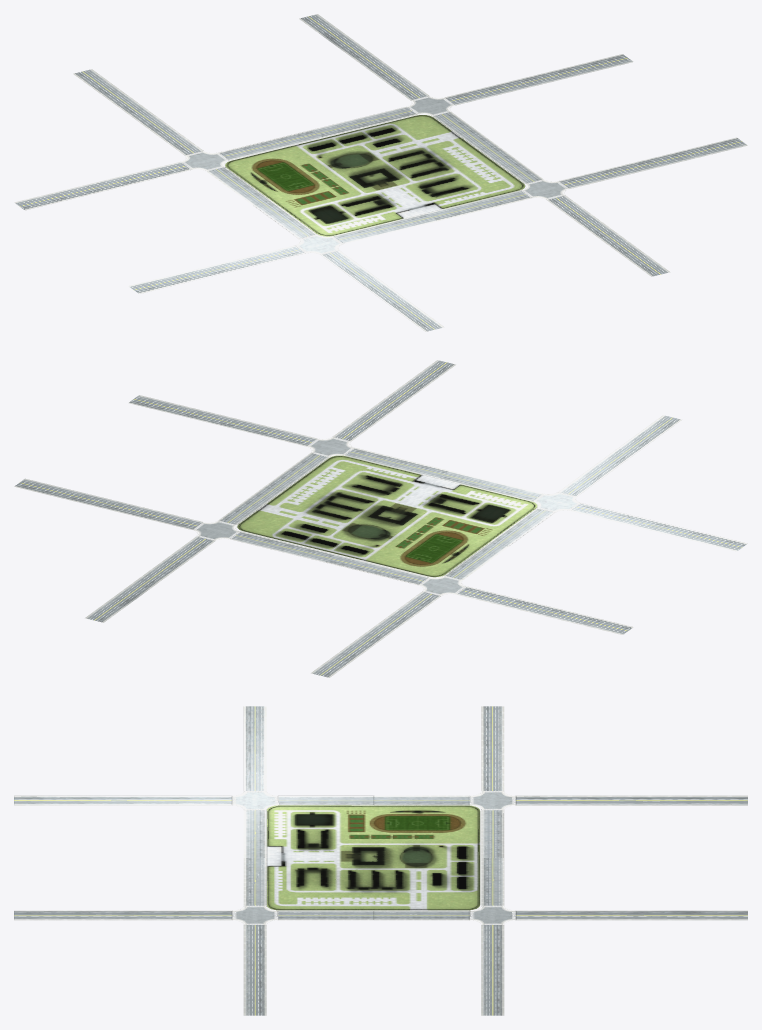
File: groundwithTexture.glb
3 views of the same model, one above another, from view 1: azimuth 30°, elevation 25°; view 2: azimuth 150°, elevation 25°; view 3: azimuth 270°, elevation 25° (orthographic). The views are drawn at different scales.
Visible parts, largest first — view 1: 地面; view 2: 地面; view 3: 地面.
Part boxes in pixels (<box>): 地面: <box>14,14,747,331</box>; 地面: <box>14,360,747,677</box>; 地面: <box>14,706,747,1015</box>.
Size of the model in its own units: 1052 by 0.000142 by 1056.
1 material, 1 textured.
